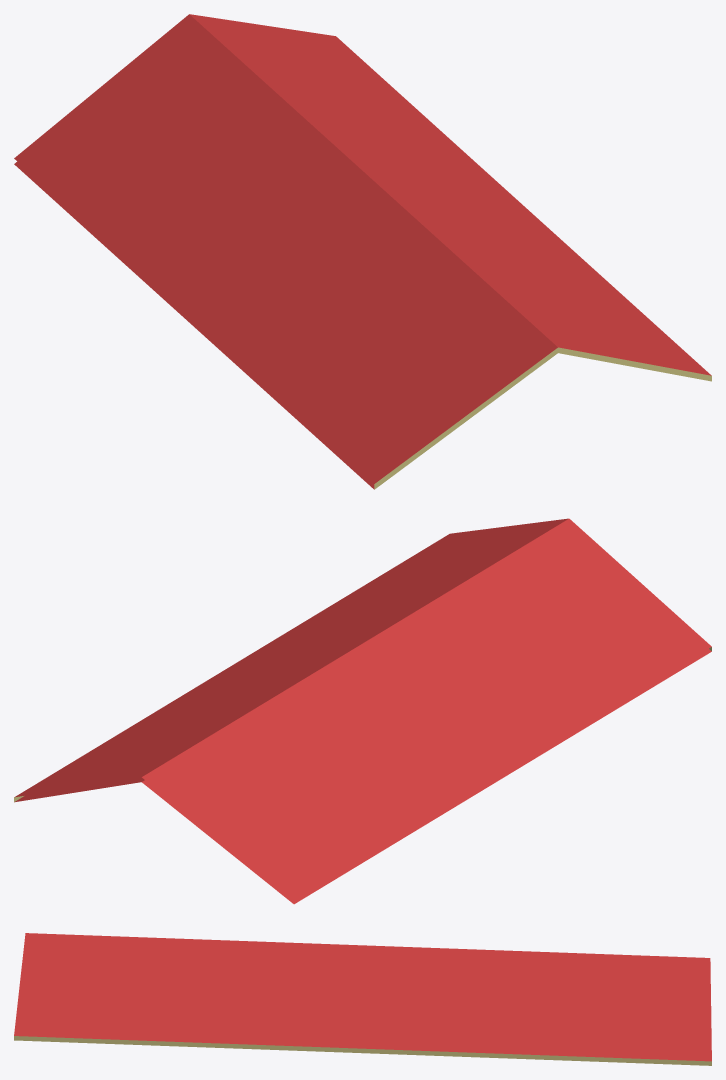
The picture shows the model from 3 angles, top to bottom: view 1: azimuth 30°, elevation 25°; view 2: azimuth 150°, elevation 25°; view 3: azimuth 270°, elevation 25°; orthographic projection. The views are drawn at different scales.
Bounding box in the file's own units: 7.09 × 14 × 1.85.
